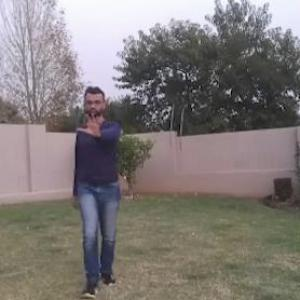follow_hand: (80, 110, 106, 137)
